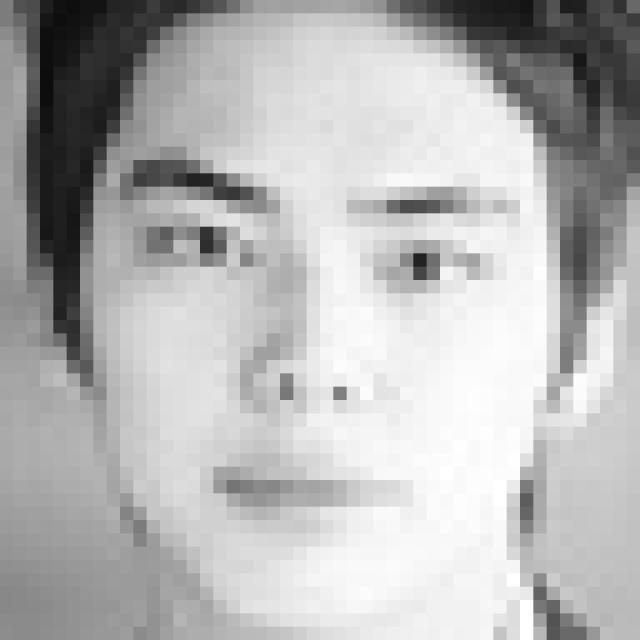neutral: (115, 156, 536, 552)
